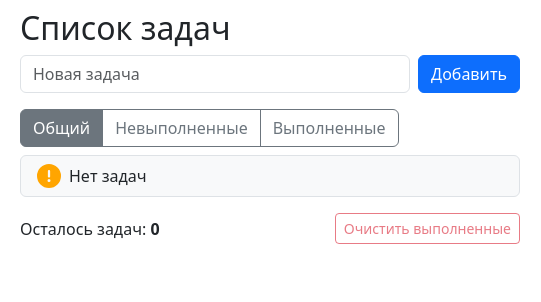
it: TodoPage › clears completed todos
Add two tasks
Type "Task 1" into the field with test id "new-task-input".
click(215, 74); type("Task 1")  # box [20,55,410,93]
Click the button with test id "add-btn".
click(469, 74)  # box [418,55,520,93]
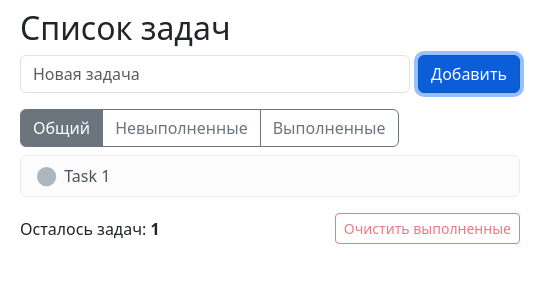
Type "Task 2" into the field with test id "new-task-input".
click(215, 74); type("Task 2")  # box [20,55,410,93]
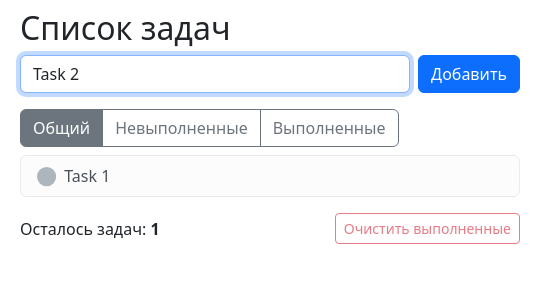
Click the button with test id "add-btn".
click(469, 74)  # box [418,55,520,93]
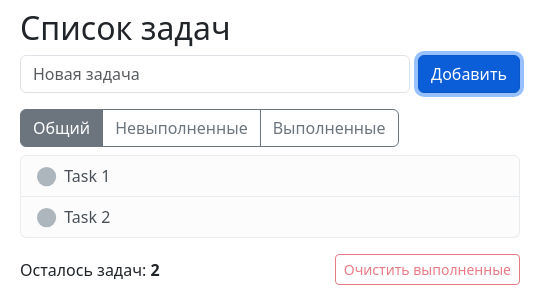
Complete both
Click the button "Task 1".
click(87, 176)  # box [20,155,520,197]
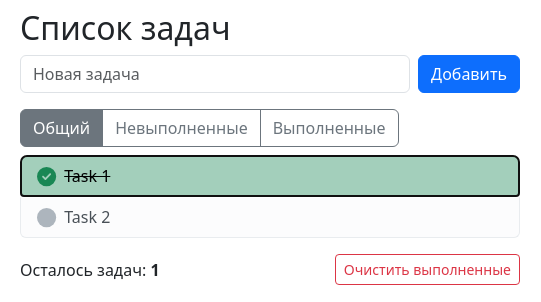
Click the button "Task 2".
click(87, 217)  # box [20,197,520,238]
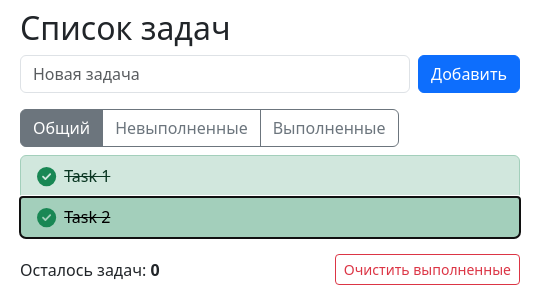
Clear completed
Click the button with test id "clear-completed-btn".
click(427, 270)  # box [335,254,520,285]
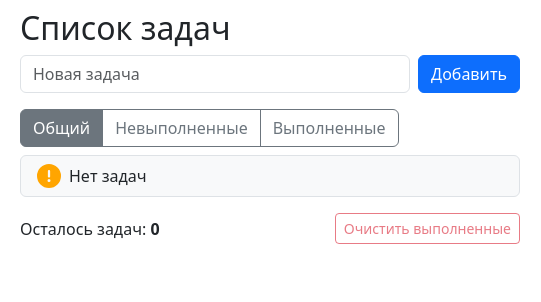
Expected: the button "Task 1" is gone
Expected: the button "Task 2" is gone
